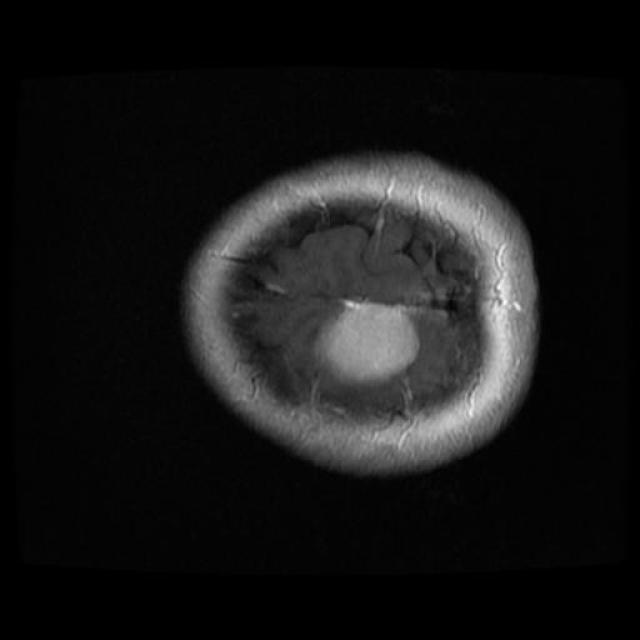Meningioma: (315, 302, 419, 387)
